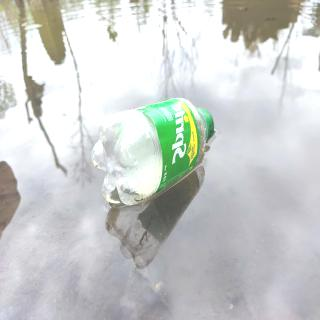bottle: (88, 92, 215, 210)
